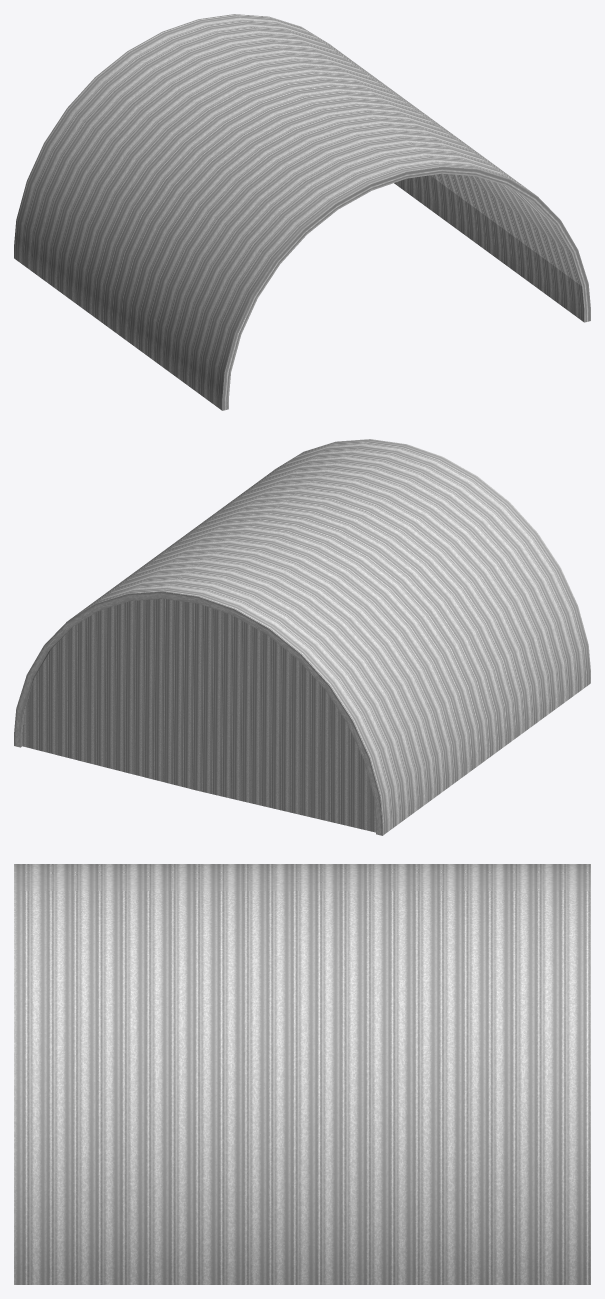
Rendered from HangarHalfCyl.fbx.
3 views of the same model, one above another, from view 1: azimuth 30°, elevation 25°; view 2: azimuth 150°, elevation 25°; view 3: azimuth 270°, elevation 25° (orthographic). The views are drawn at different scales.
Parts seen in each view (by area): view 1: Cylinder; view 2: Cylinder; view 3: Cylinder.
Part boxes in pixels (box(x1,y1,x2,y2)): Cylinder: box(14, 14, 590, 410); Cylinder: box(14, 439, 590, 835); Cylinder: box(14, 864, 590, 1284).
Size of the model in its own units: 168 by 84.8 by 165.
